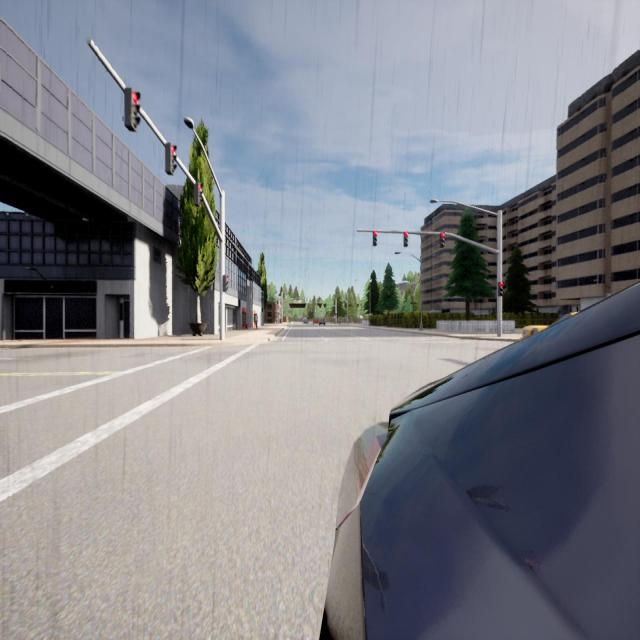Pedestrian: (254, 312, 258, 328)
Vehicle: (323, 283, 640, 638), (522, 312, 577, 338), (320, 318, 325, 325), (314, 317, 318, 324), (304, 318, 308, 324)
traffic_light: (126, 88, 140, 131), (166, 143, 177, 175), (195, 181, 203, 207), (440, 232, 445, 248), (498, 282, 503, 296), (373, 230, 377, 246), (223, 275, 227, 291), (404, 232, 408, 246)
